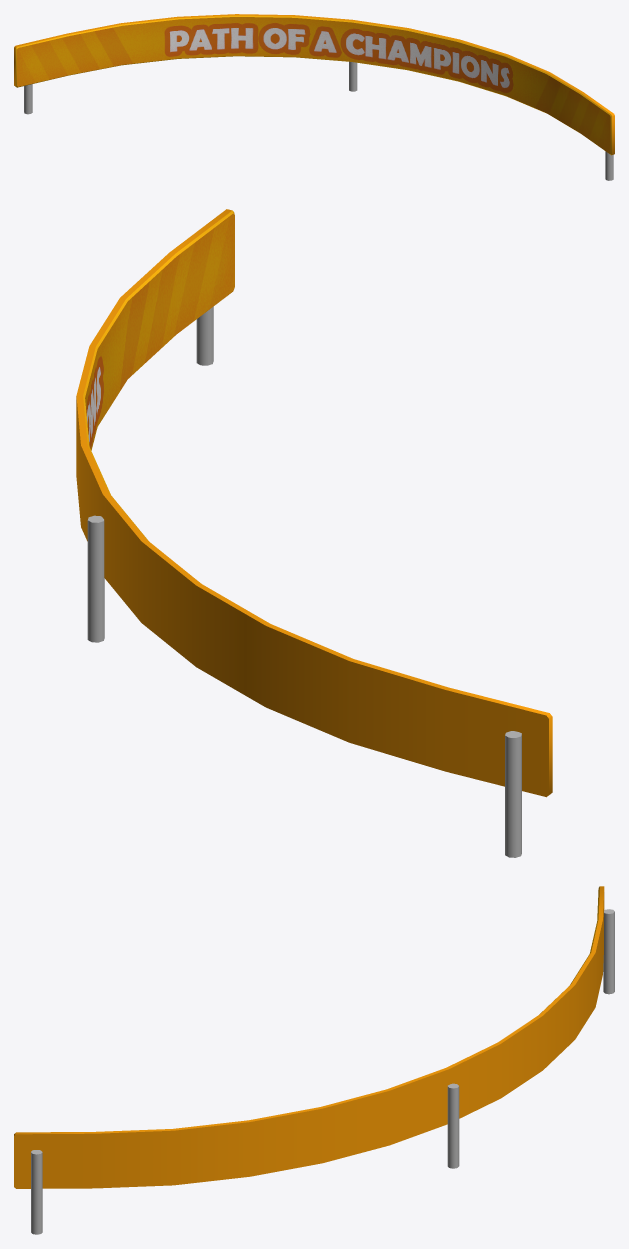
Rendered from billboards_OnColumn_corner_1_D.fbx.
3 views of the same model, one above another, from view 1: azimuth 30°, elevation 25°; view 2: azimuth 150°, elevation 25°; view 3: azimuth 270°, elevation 25° (orthographic). The views are drawn at different scales.
Visible parts, largest first — view 1: billboards_OnColumn_corner_1_D; view 2: billboards_OnColumn_corner_1_D; view 3: billboards_OnColumn_corner_1_D.
Boxes of the visible parts, <box> form: billboards_OnColumn_corner_1_D: <box>14,14,614,180</box>; billboards_OnColumn_corner_1_D: <box>76,209,552,857</box>; billboards_OnColumn_corner_1_D: <box>14,886,614,1234</box>.
Bounding box in the file's own units: 619 × 109 × 620.
